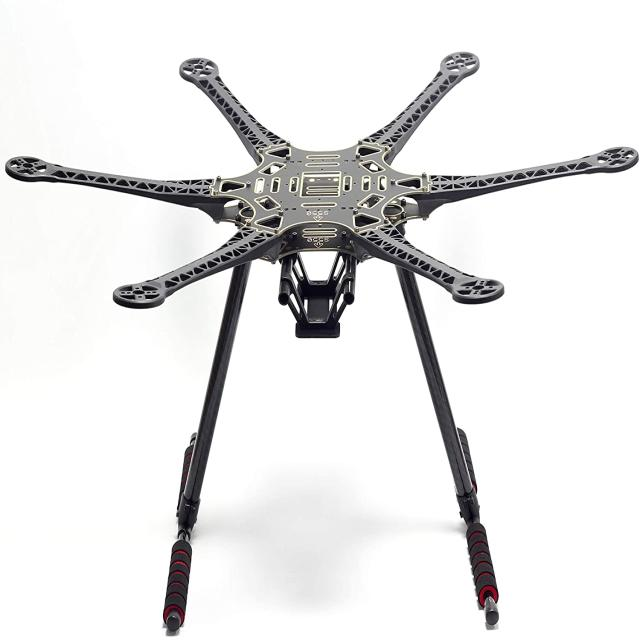drone: (0, 30, 640, 557)
